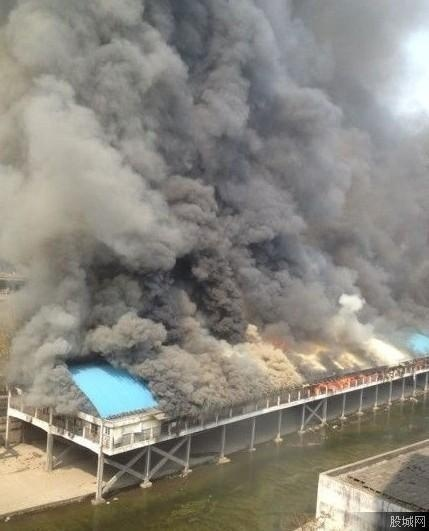fire: (310, 371, 361, 394)
